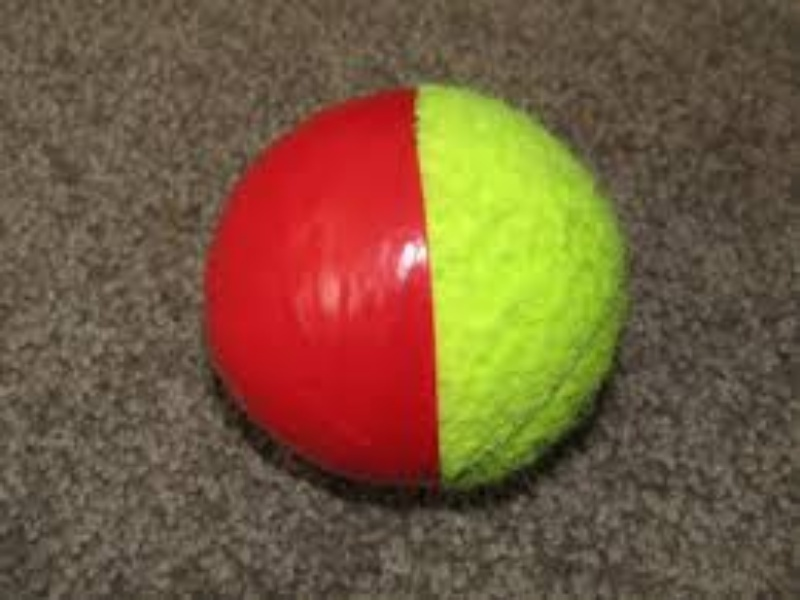tennis ball: (213, 82, 635, 482)
